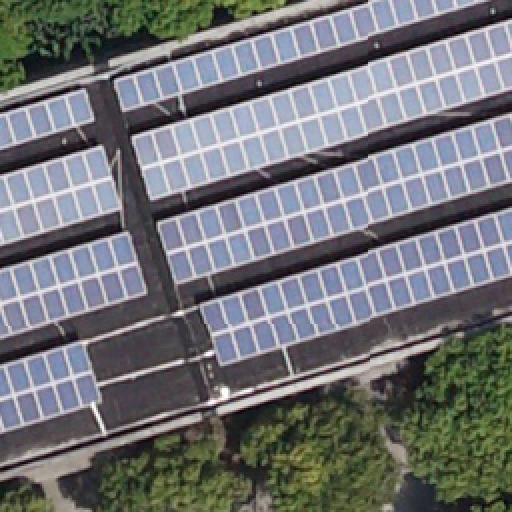solar-panel: (129, 18, 511, 206), (156, 110, 512, 286), (198, 209, 512, 367), (114, 0, 490, 112), (1, 230, 151, 338), (1, 142, 127, 250), (0, 336, 104, 436), (0, 88, 96, 152)
